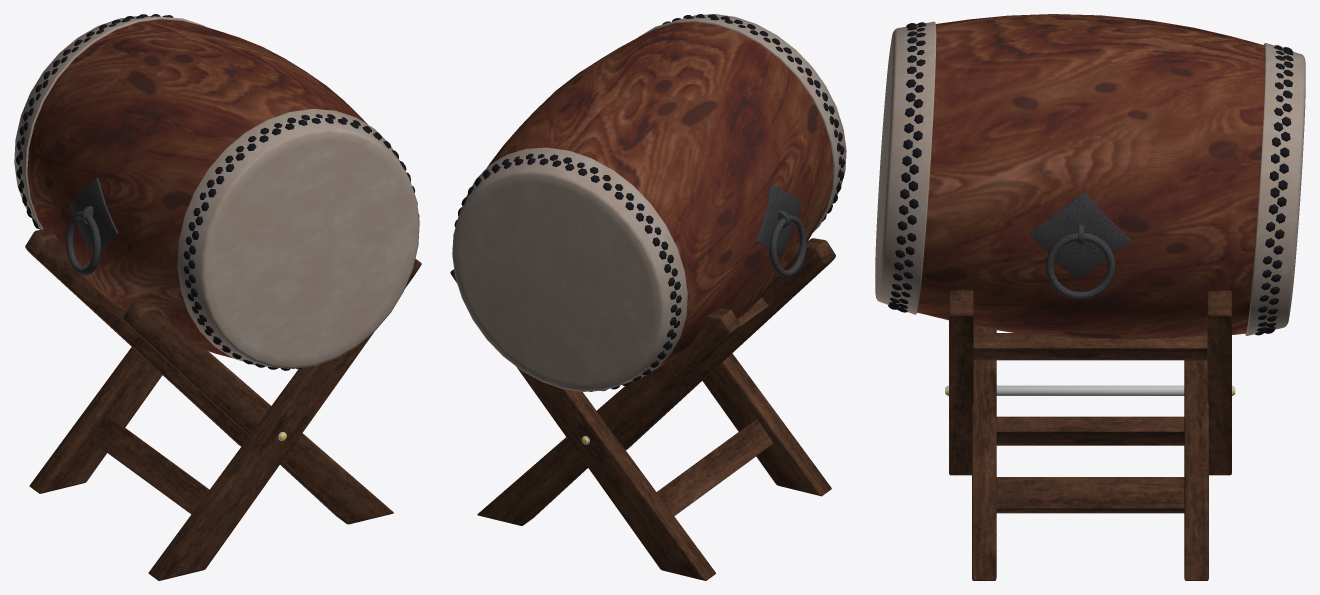
Rendered from Dram.fbx.
The picture shows the model from 3 angles, left to right: view 1: azimuth 30°, elevation 25°; view 2: azimuth 150°, elevation 25°; view 3: azimuth 270°, elevation 25°; orthographic projection. The views are drawn at different scales.
Visible parts, largest first — view 1: Dram; view 2: Dram; view 3: Dram.
Boxes of the visible parts, bbox=[...] form: Dram: bbox=[14, 14, 421, 580]; Dram: bbox=[450, 14, 846, 580]; Dram: bbox=[875, 14, 1305, 580].
Size of the model in its own units: 0.8674 by 1.28 by 1.03.
